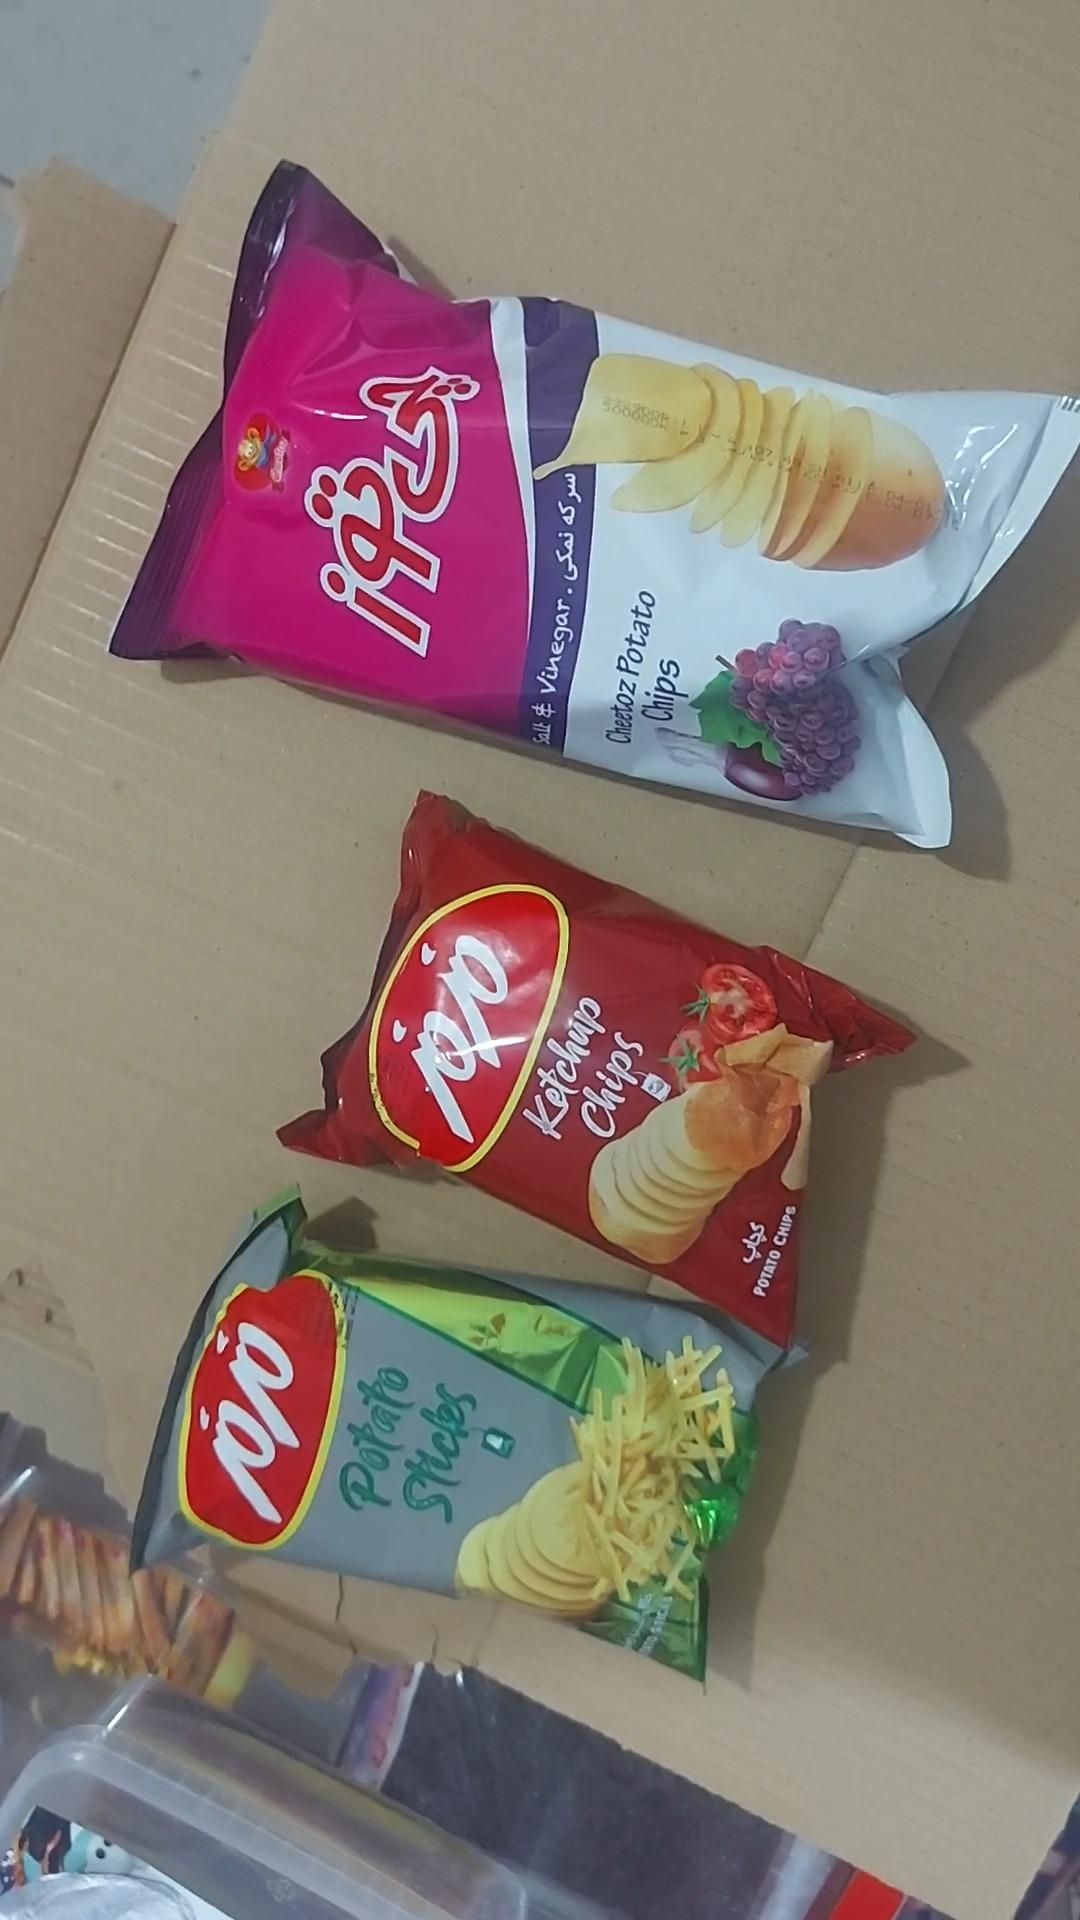Cheetoz vinegar chips: (105, 164, 1079, 856)
Maz Maz ketchup chips: (273, 791, 916, 1352)
Maz Maz potato sticks: (129, 1185, 785, 1683)
